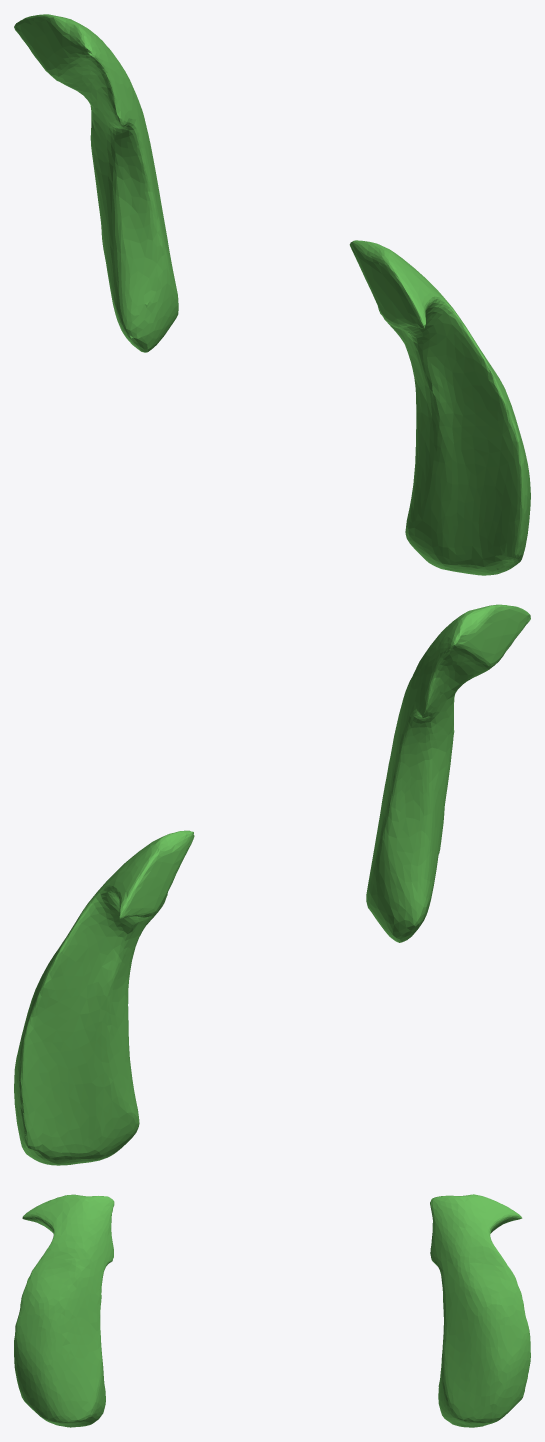
3 renders of one model, top to bottom at view 1: azimuth 30°, elevation 25°; view 2: azimuth 150°, elevation 25°; view 3: azimuth 270°, elevation 25°, orthographic. The views are drawn at different scales.
Visible parts, largest first — view 1: 926.obj; view 2: 926.obj; view 3: 926.obj.
Boxes of the visible parts, x1,y1,x2,y2 form: 926.obj: (14, 14, 530, 575); 926.obj: (14, 604, 530, 1165); 926.obj: (14, 1194, 530, 1427).
Bounding box in the file's own units: 1522 × 3980 × 8979.
